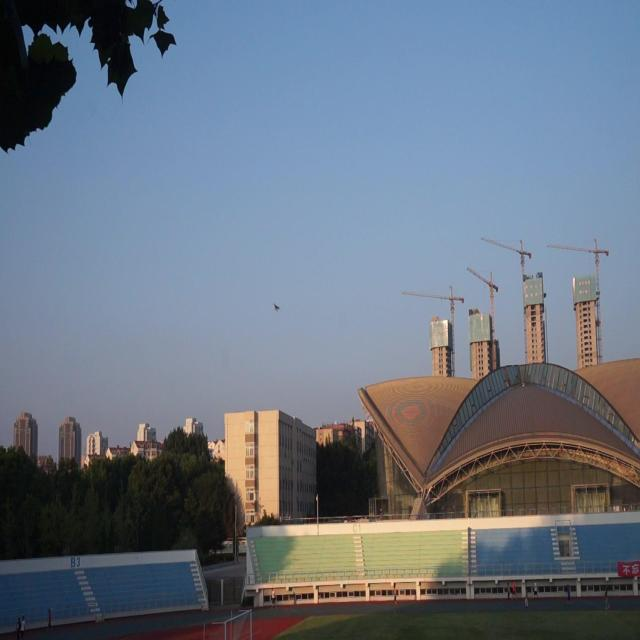drone: (272, 299, 282, 311)
